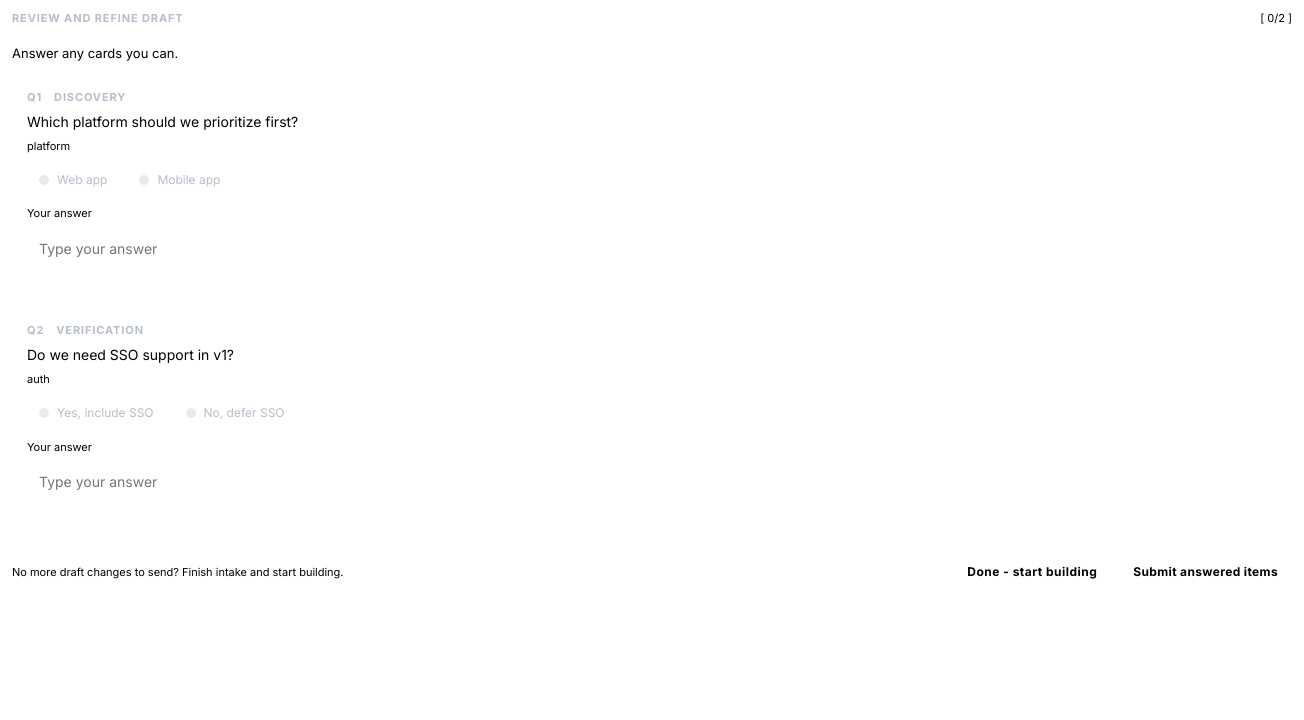
Test: QuestionCanvas › keeps submit as the active action once a draft-review answer is selected
Click the radio button labelled "Web app" at (73, 180), box [27,165,119,195]
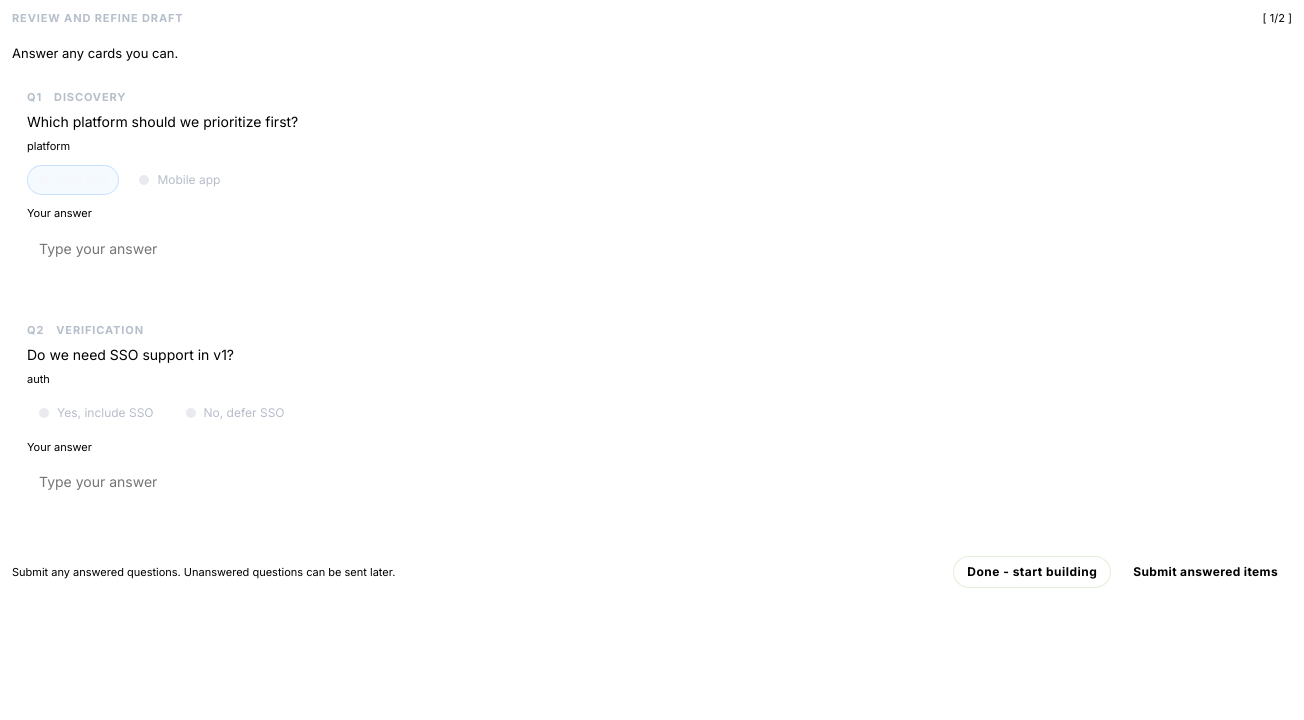
Expected: the button with aria-label "submit prompt answers" is enabled, [1119,555,1292,589]
Expected: the text "Submit any answered questions. Unanswered questions can be sent later." is shown, [12,564,395,580]
